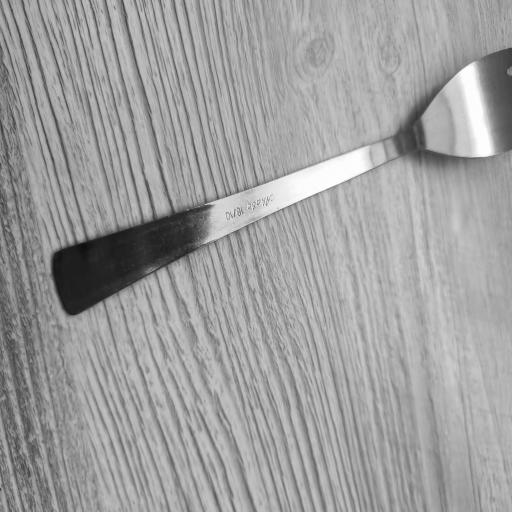fork: (50, 41, 512, 317)
